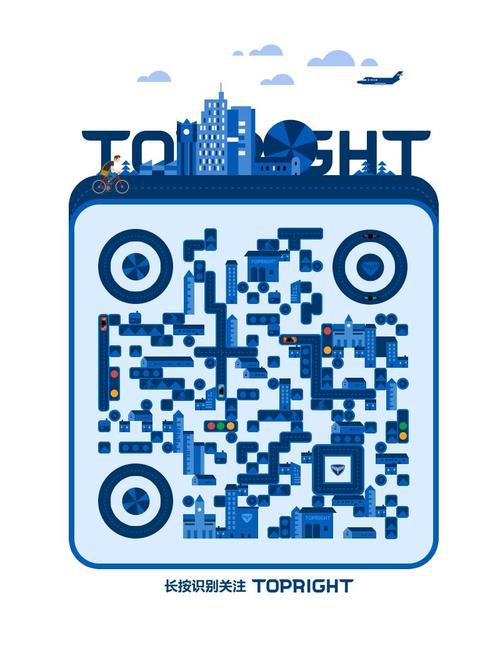QRCode: (84, 218, 413, 544)
